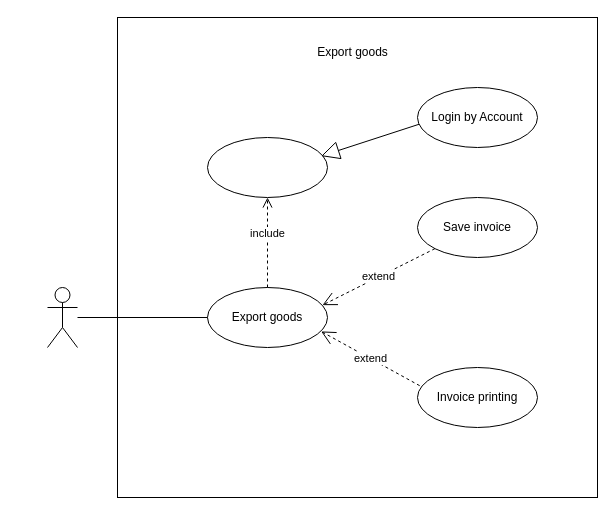
The diagram is 615 pixels wide and 515 high, and some of its shapes have lost their labels. The box of each missing label's shape, as (x1, y1, x2, y2) in pixels:
Admin/Employee: (46, 286, 78, 348)
Login: (206, 136, 328, 198)
